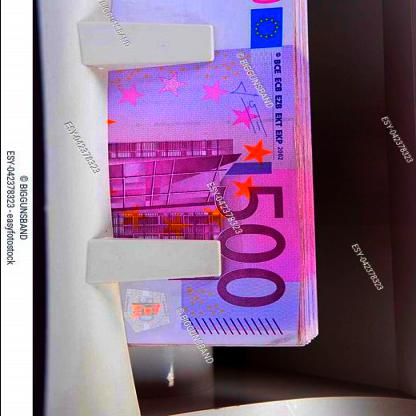euro_banknote: (34, 76, 377, 270)
